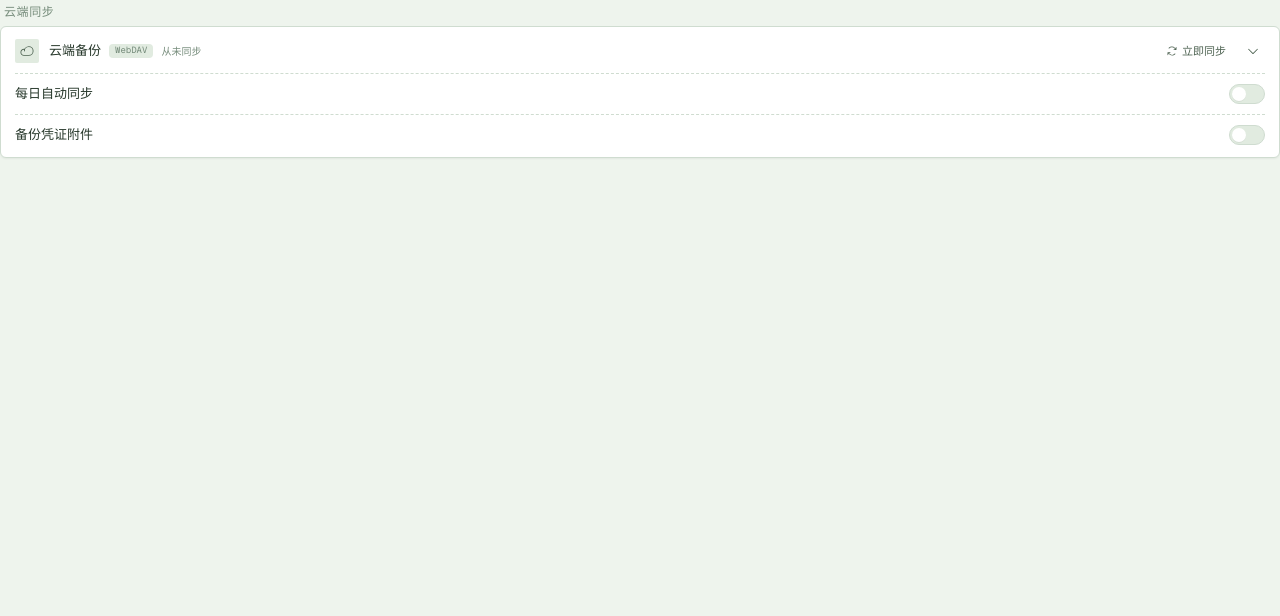
Test: WebDavSyncSection › fills preset url and selects proxy mode when preset chip is clicked
Click the button named "展开配置" at (1253, 51), box x1=1241 y1=39 x2=1265 y2=63
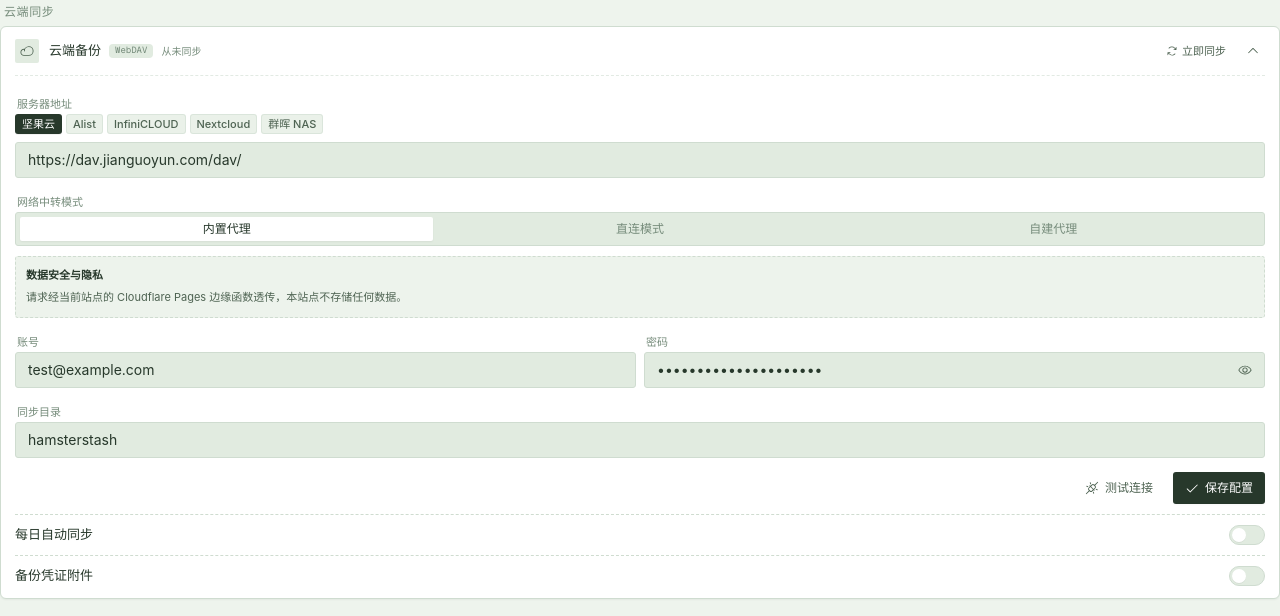
Click the button "Alist" at (84, 124), box x1=66 y1=114 x2=103 y2=134
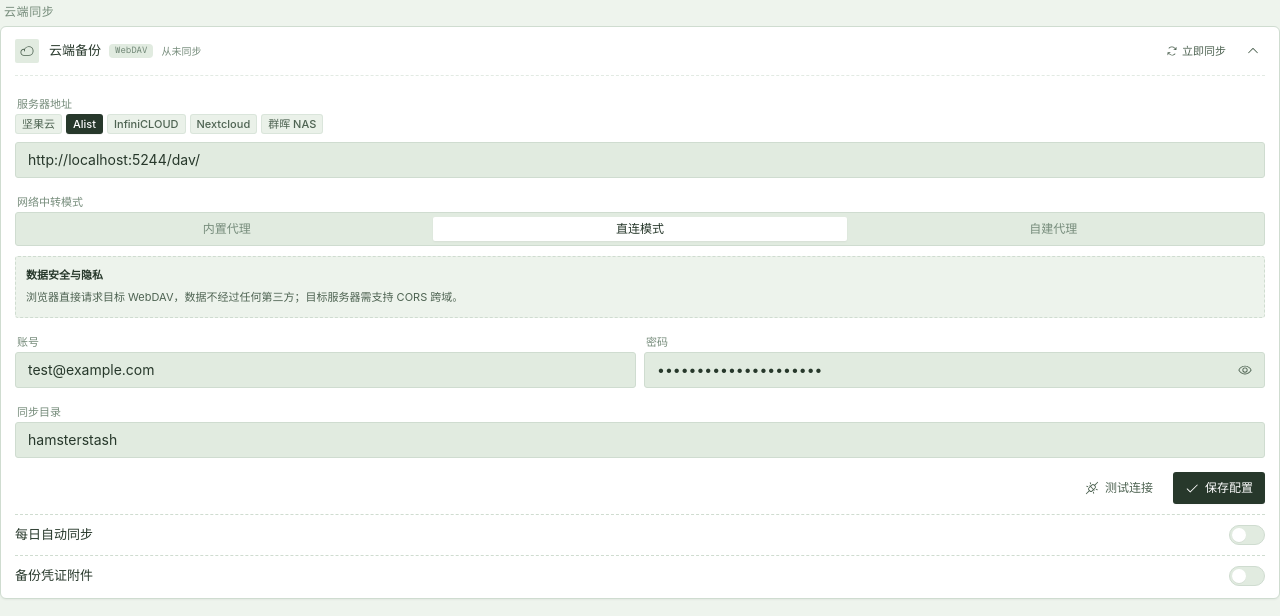
Result: the field with placeholder "https://dav.jianguoyun.com/dav/" below "服务器地址" holds "http://localhost:5244/dav/" at x1=28 y1=150 x2=1252 y2=170
